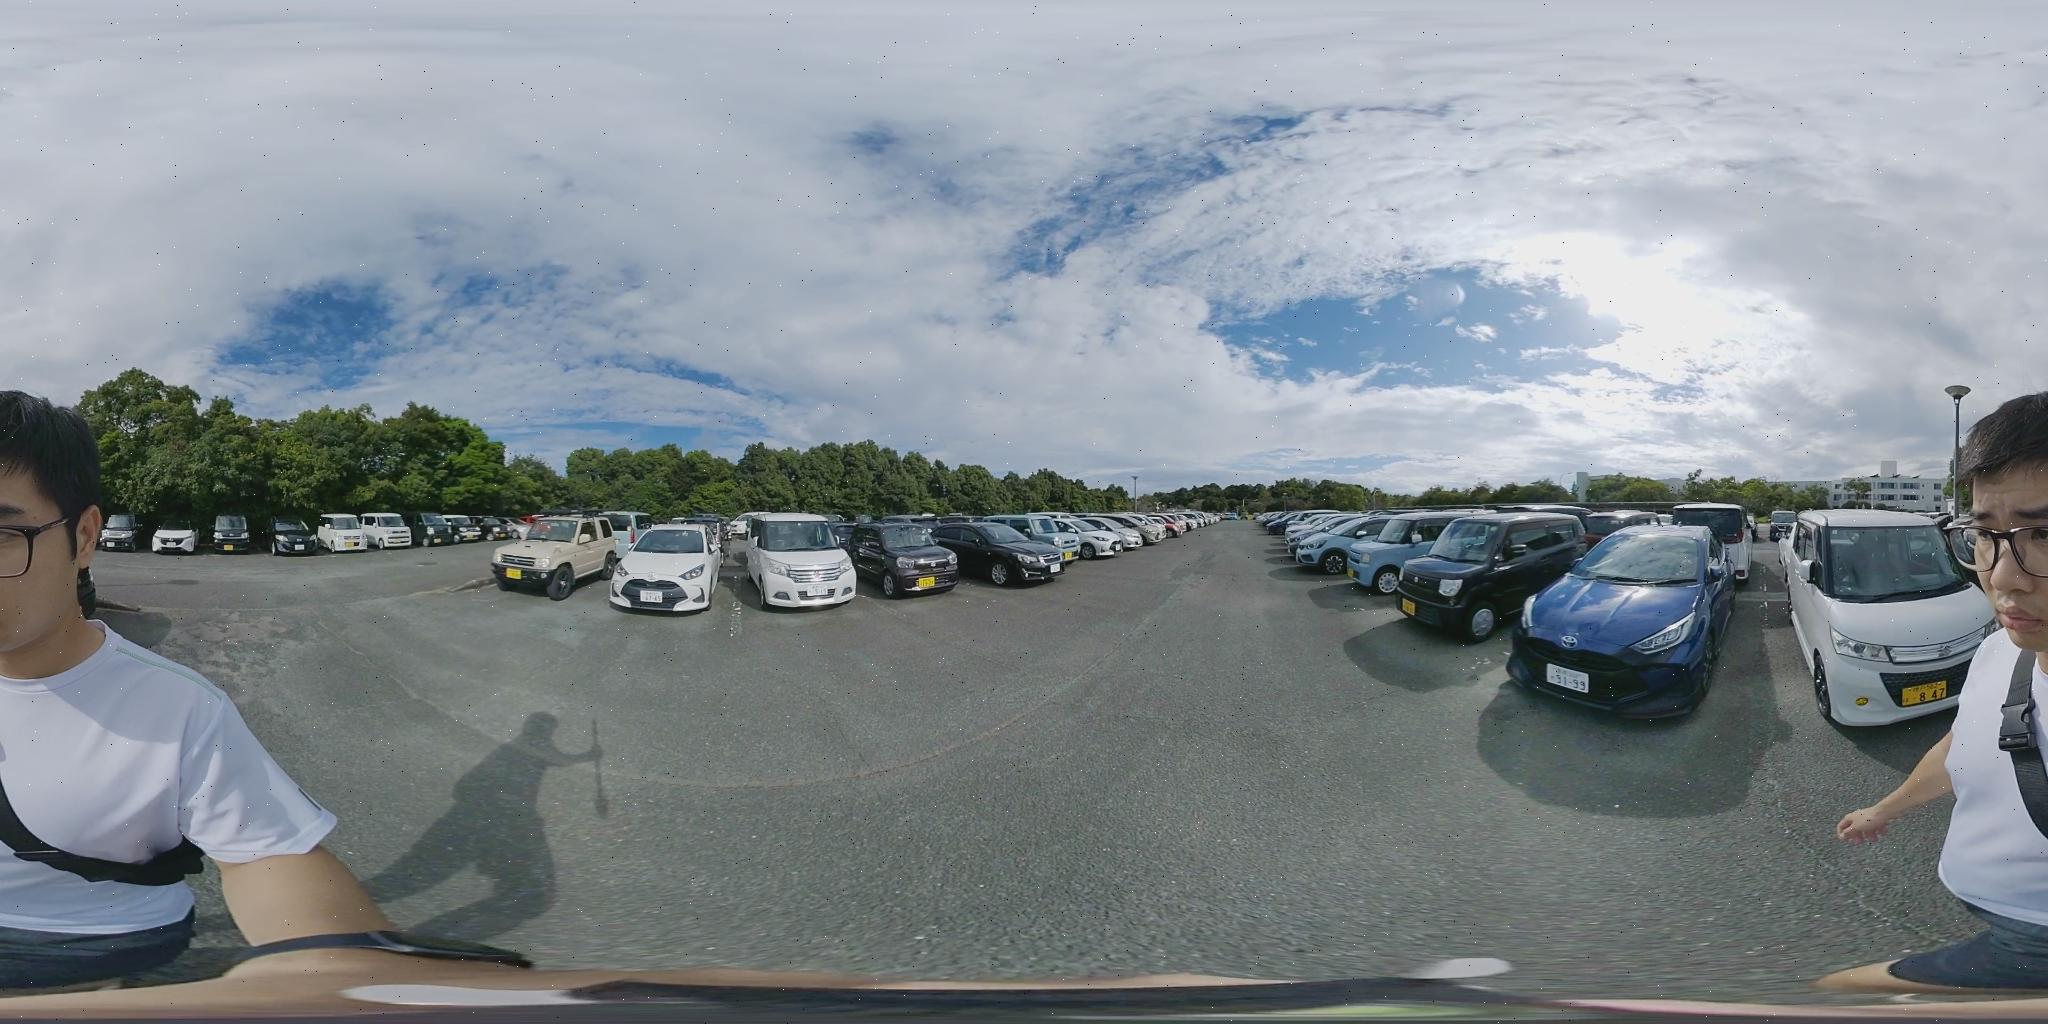car: (1778, 504, 2008, 730), (1503, 521, 1749, 713), (1386, 517, 1600, 643), (744, 515, 858, 618), (1331, 515, 1469, 588), (926, 520, 1074, 584), (494, 519, 613, 597), (611, 525, 714, 611), (857, 524, 955, 597), (1289, 513, 1395, 571), (1031, 516, 1147, 558), (362, 516, 417, 550), (424, 517, 475, 545), (155, 530, 201, 554)
